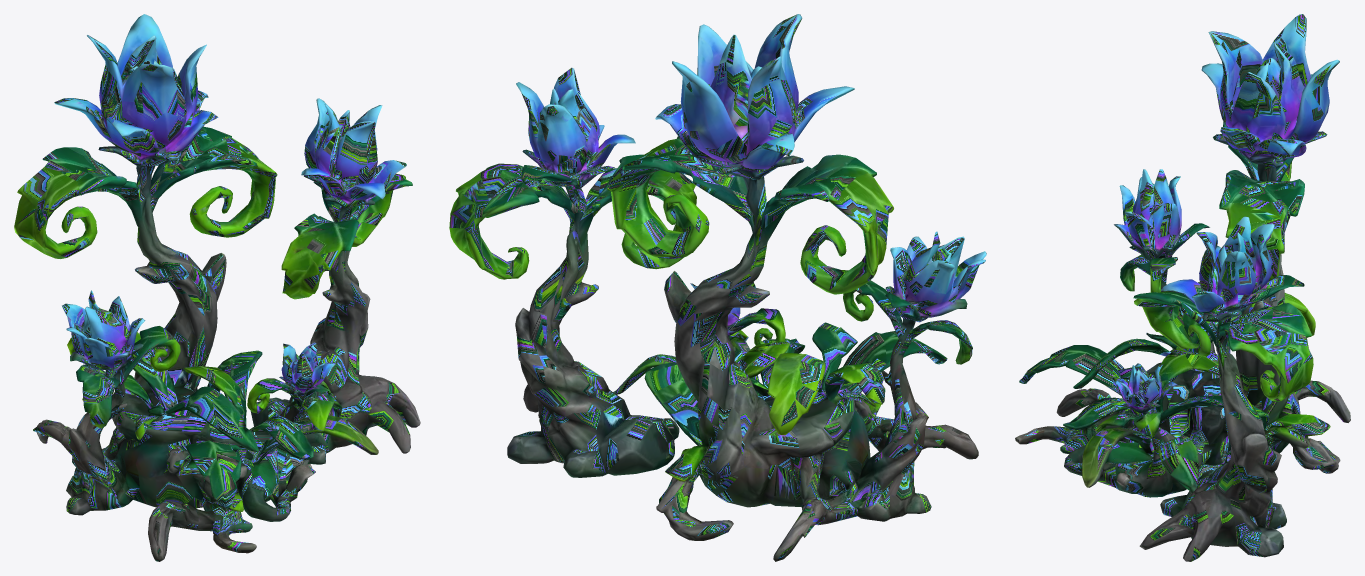
Rendered from Stylized_Cave_Plants.glb.
The picture shows the model from 3 angles, left to right: view 1: azimuth 30°, elevation 25°; view 2: azimuth 150°, elevation 25°; view 3: azimuth 270°, elevation 25°; orthographic projection. The views are drawn at different scales.
Visible parts, largest first — view 1: Stylized_Cave_Plants; view 2: Stylized_Cave_Plants; view 3: Stylized_Cave_Plants.
Part boxes in pixels (<box>): Stylized_Cave_Plants: <box>14,14,420,561</box>; Stylized_Cave_Plants: <box>449,14,986,561</box>; Stylized_Cave_Plants: <box>1015,14,1350,561</box>.
Size of the model in its own units: 1.86 by 1.9 by 1.36.
1 material, 1 textured.
